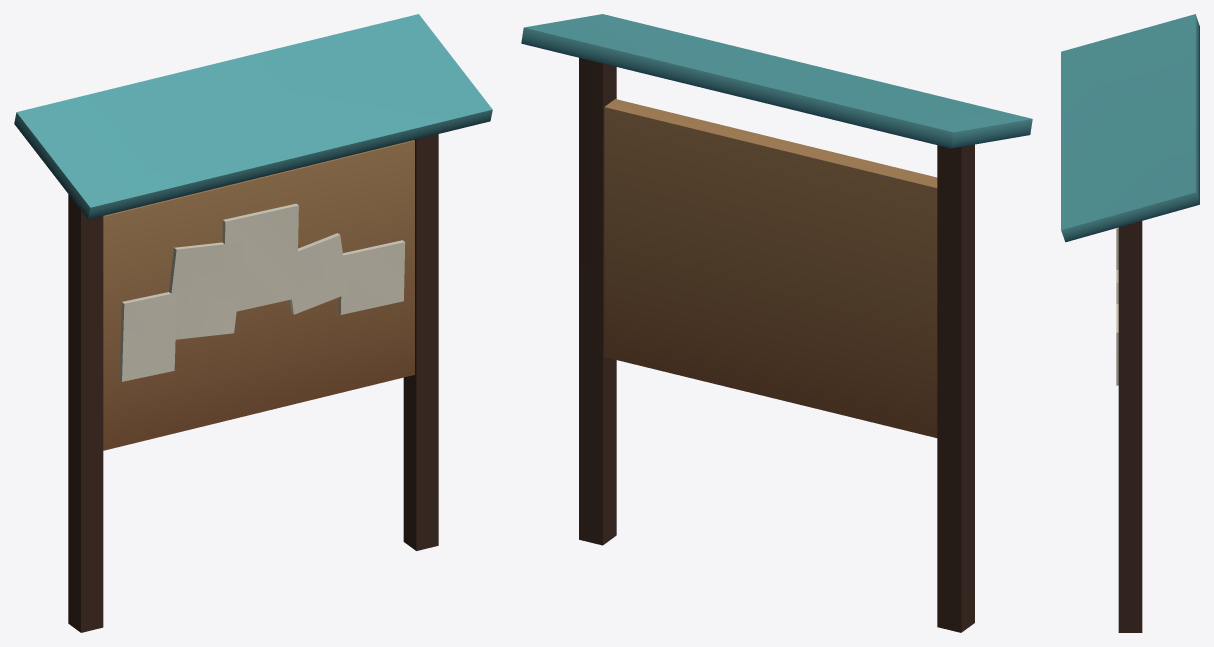
The model's file is notice_board.glb.
3 views of the same model, side by side, from view 1: azimuth 30°, elevation 25°; view 2: azimuth 150°, elevation 25°; view 3: azimuth 270°, elevation 25° (orthographic). The views are drawn at different scales.
Visible parts, largest first — view 1: Board; view 2: Board; view 3: Board.
Boxes of the visible parts, x1,y1,x2,y2 form: Board: (14,14,492,632); Board: (521,14,1032,632); Board: (1061,14,1199,632).
Size of the model in its own units: 1.8 by 2.12 by 0.5909.
